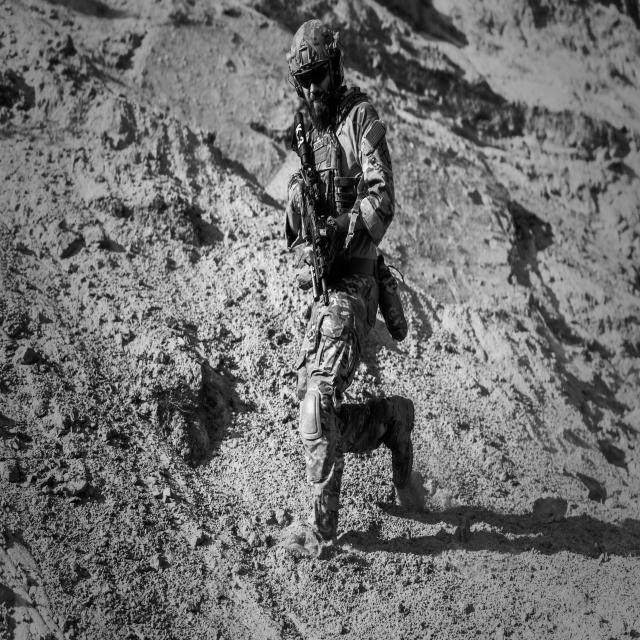Gun: (294, 111, 328, 304)
